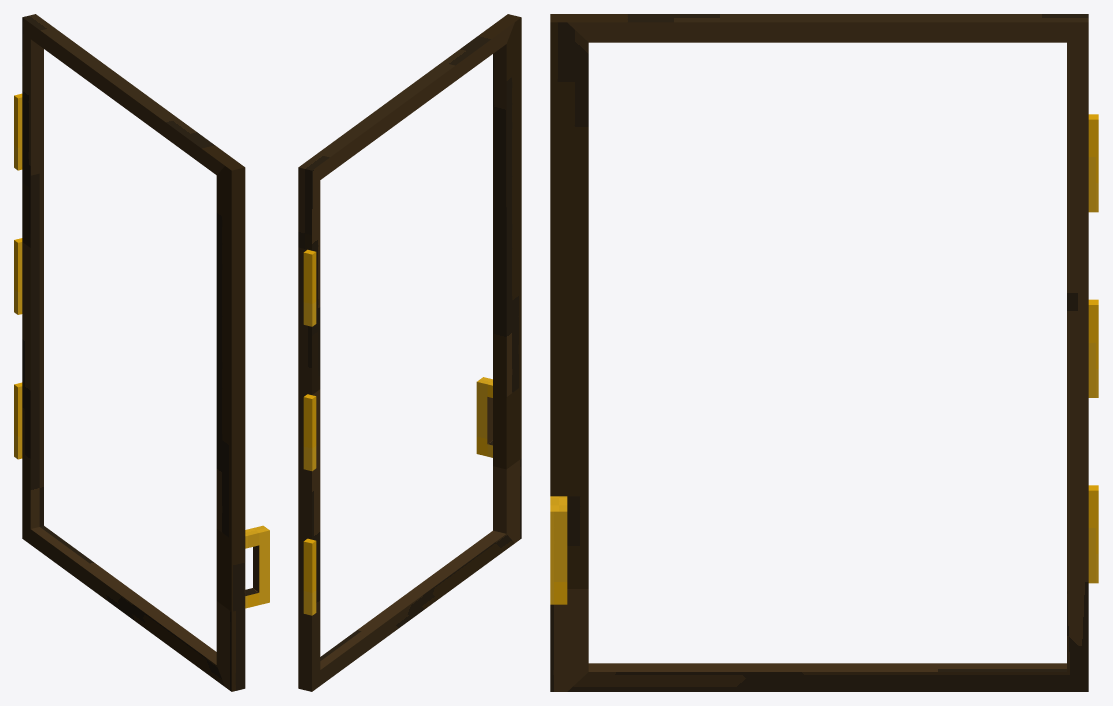
File: Cabinet_door_Glass_Right.fbx
3 views of the same model, side by side, from view 1: azimuth 30°, elevation 25°; view 2: azimuth 150°, elevation 25°; view 3: azimuth 270°, elevation 25° (orthographic). The views are drawn at different scales.
Parts seen in each view (by area): view 1: Cube_2; view 2: Cube_2; view 3: Cube_2.
Part boxes in pixels (<box>): Cube_2: <box>14,14,269,691</box>; Cube_2: <box>298,14,521,691</box>; Cube_2: <box>550,14,1098,691</box>.
Size of the model in its own units: 22.41 by 264 by 196.
Materials: 1 (1 with a texture image).
